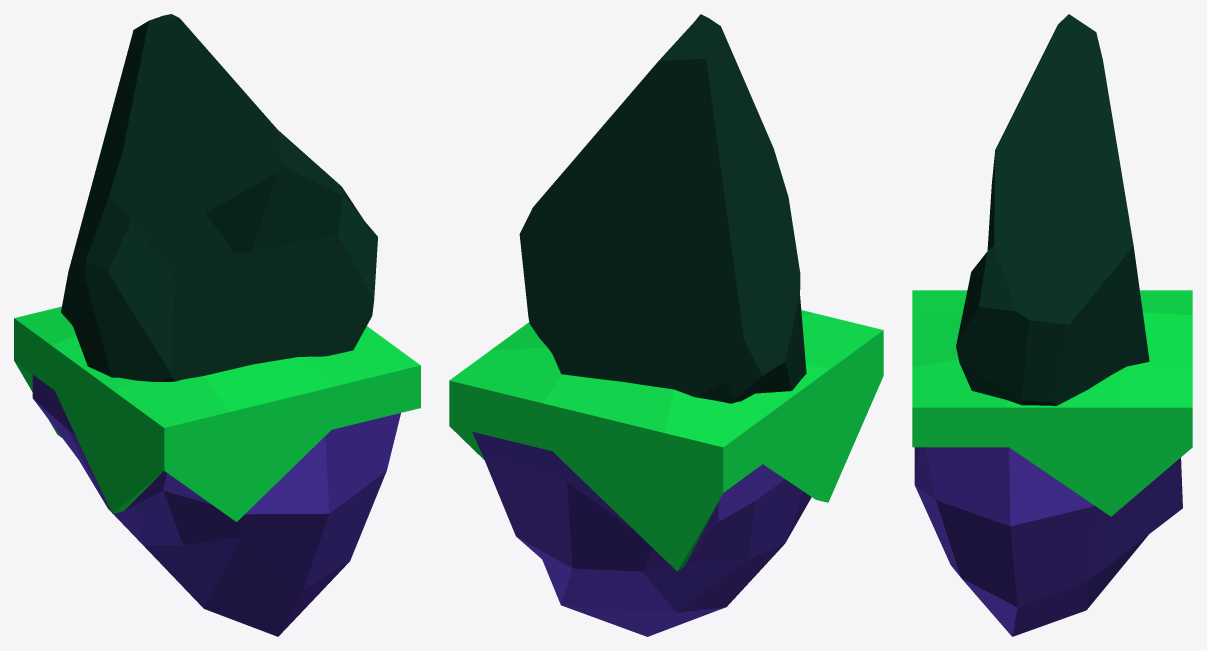
Rendered from obstacle1.fbx.
3 renders of one model, left to right at view 1: azimuth 30°, elevation 25°; view 2: azimuth 150°, elevation 25°; view 3: azimuth 270°, elevation 25°, orthographic. The views are drawn at different scales.
Visible parts, largest first — view 1: Roundcube.001; view 2: Roundcube.001; view 3: Roundcube.001.
Part boxes in pixels (left/top/right/bottom): Roundcube.001: left=14, top=14, right=420, bottom=636; Roundcube.001: left=449, top=14, right=883, bottom=636; Roundcube.001: left=912, top=14, right=1192, bottom=636.
Size of the model in its own units: 478 by 1104 by 484.
